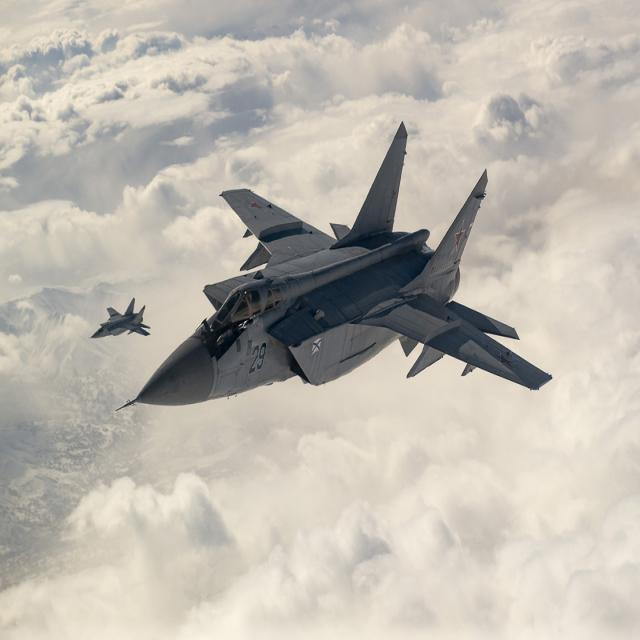MIL_Plane: (115, 120, 553, 412), (88, 297, 151, 339)
